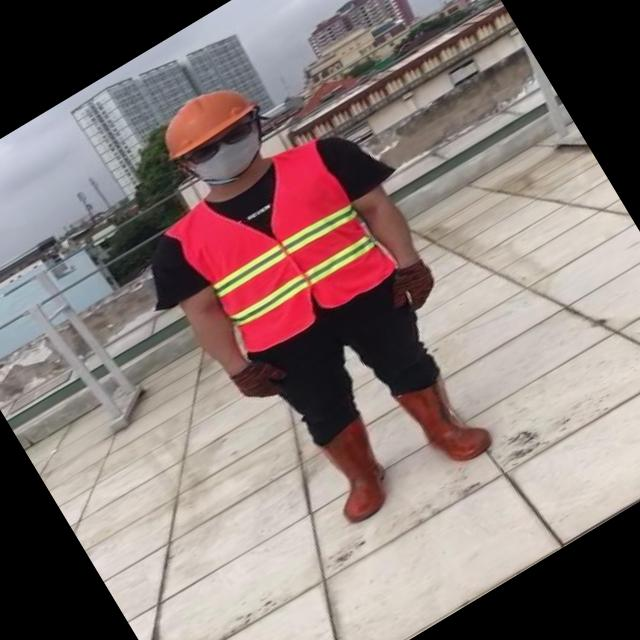hard_hat: (148, 70, 262, 164)
safety_vest: (157, 134, 397, 366)
vehicle: (80, 29, 546, 564)
work_boots: (390, 362, 499, 478), (306, 422, 402, 528)
